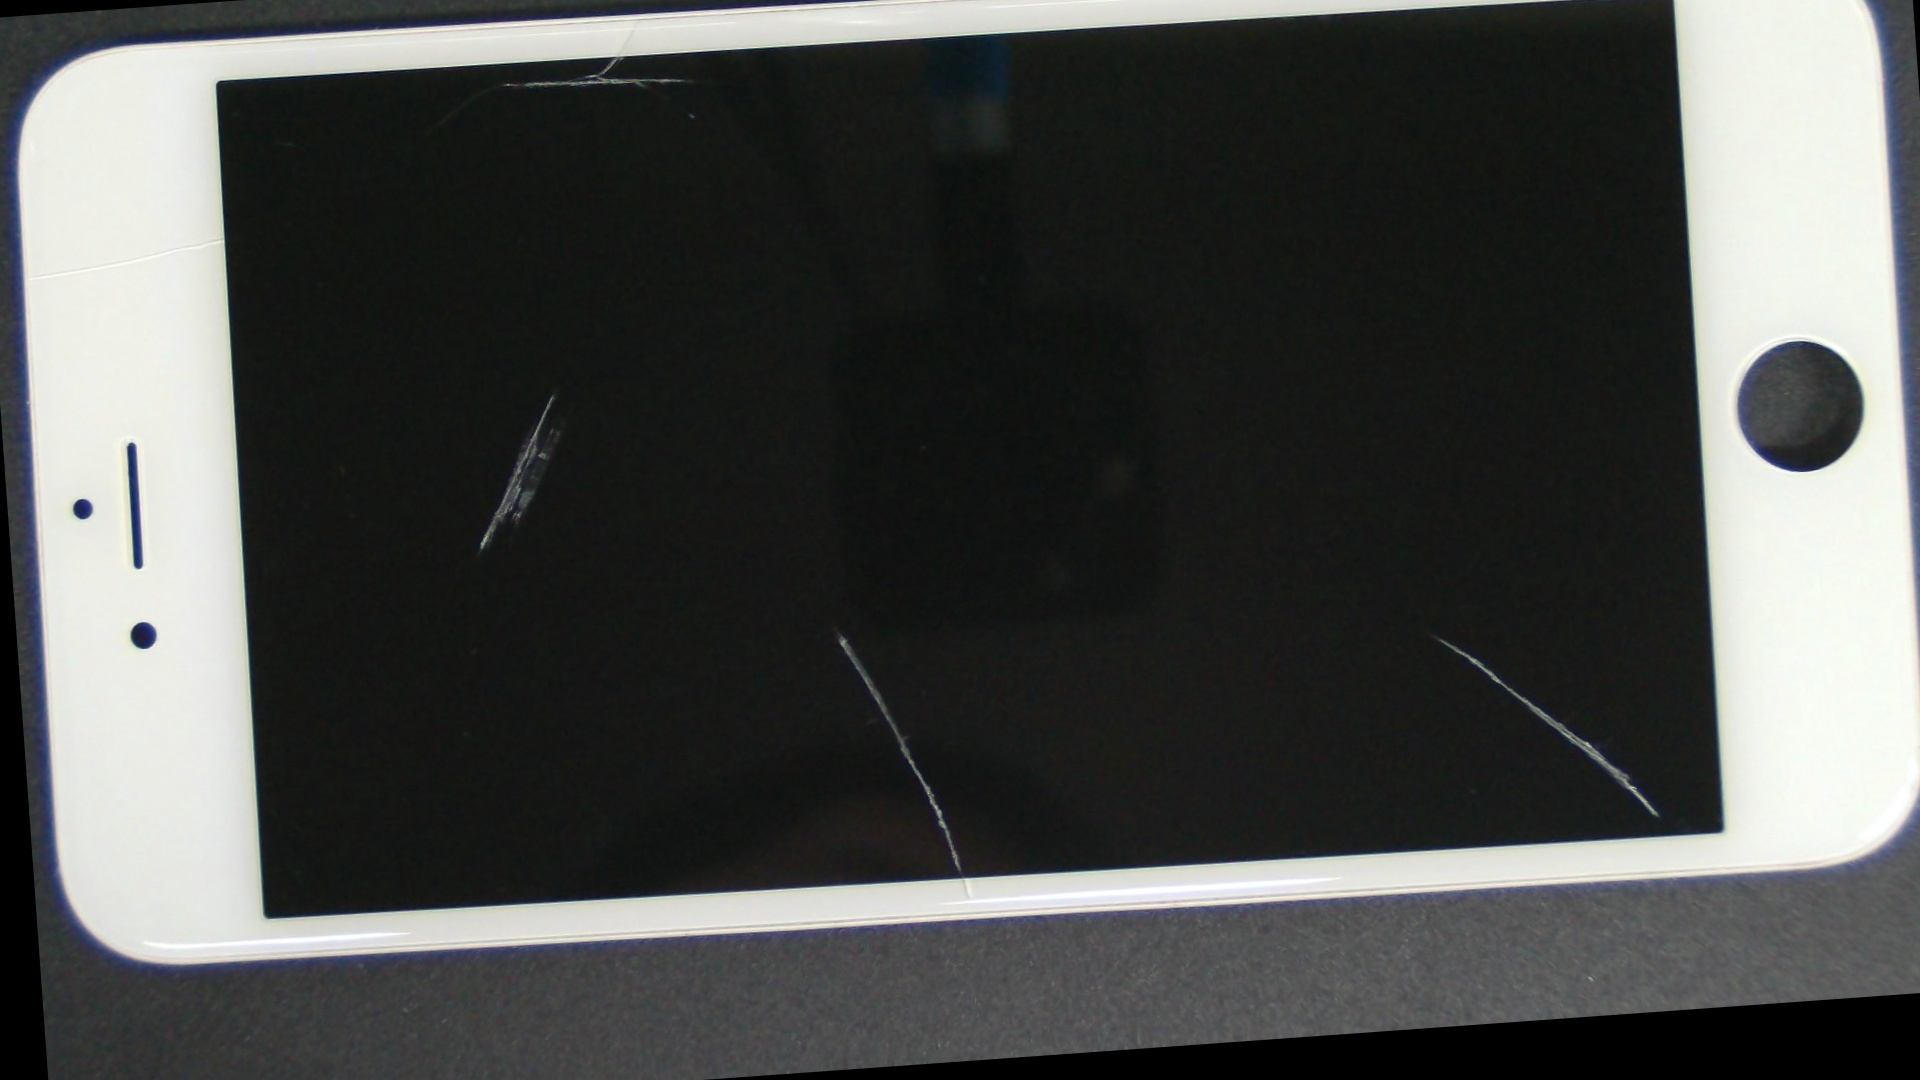oil: (705, 240, 1920, 1047), (406, 266, 1273, 998), (262, 166, 841, 620), (295, 0, 938, 121)
